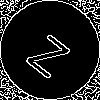Z: (25, 25, 77, 80)
